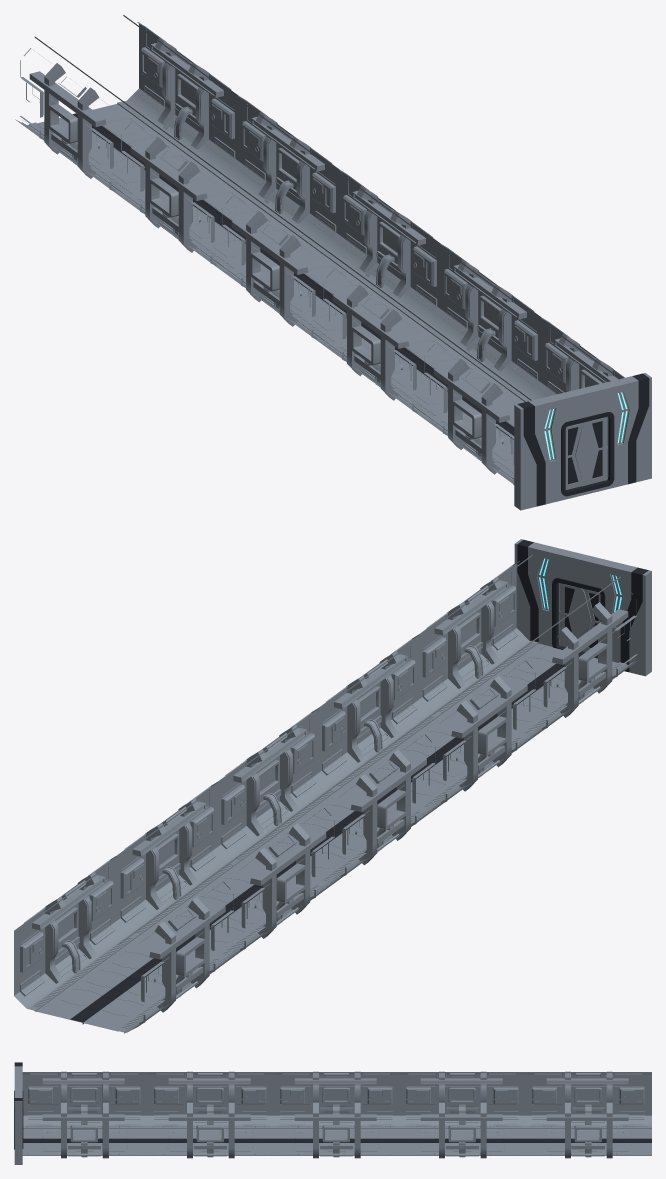
File: corridor.glb
3 renders of one model, top to bottom at view 1: azimuth 30°, elevation 25°; view 2: azimuth 150°, elevation 25°; view 3: azimuth 270°, elevation 25°, orthographic. The views are drawn at different scales.
Visible parts, largest first — view 1: Sci_Fi_Corridor, Frame, Door; view 2: Sci_Fi_Corridor, Frame, Door; view 3: Sci_Fi_Corridor, Frame.
Boxes of the visible parts, <box> form: Sci_Fi_Corridor: <box>15,15,624,484</box>; Frame: <box>514,373,651,510</box>; Door: <box>565,416,608,489</box>; Sci_Fi_Corridor: <box>14,554,640,1033</box>; Frame: <box>514,539,651,676</box>; Door: <box>558,583,600,651</box>; Sci_Fi_Corridor: <box>22,1071,651,1158</box>; Frame: <box>14,1062,23,1164</box>.
Bounding box in the file's own units: 10.8 × 7.65 × 70.2.
